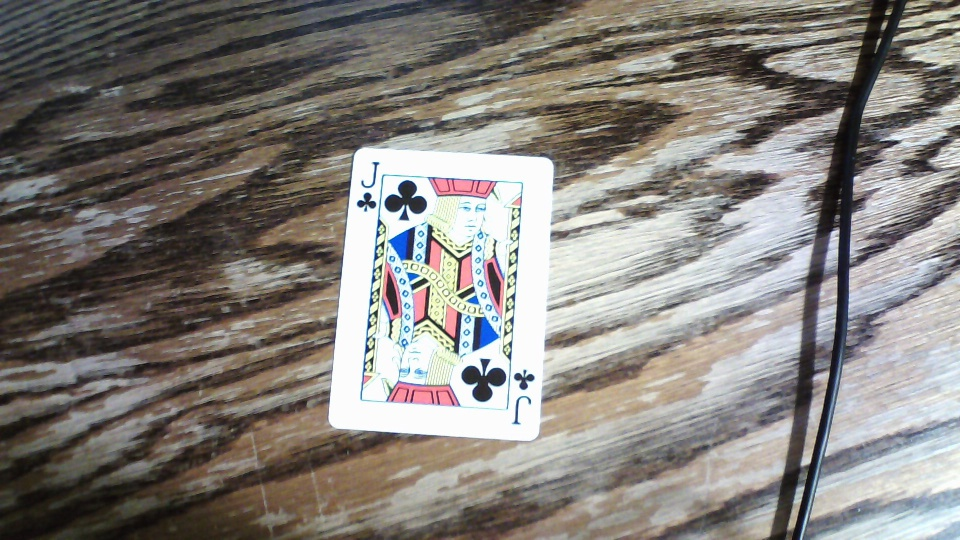jack: (328, 145, 555, 440)
